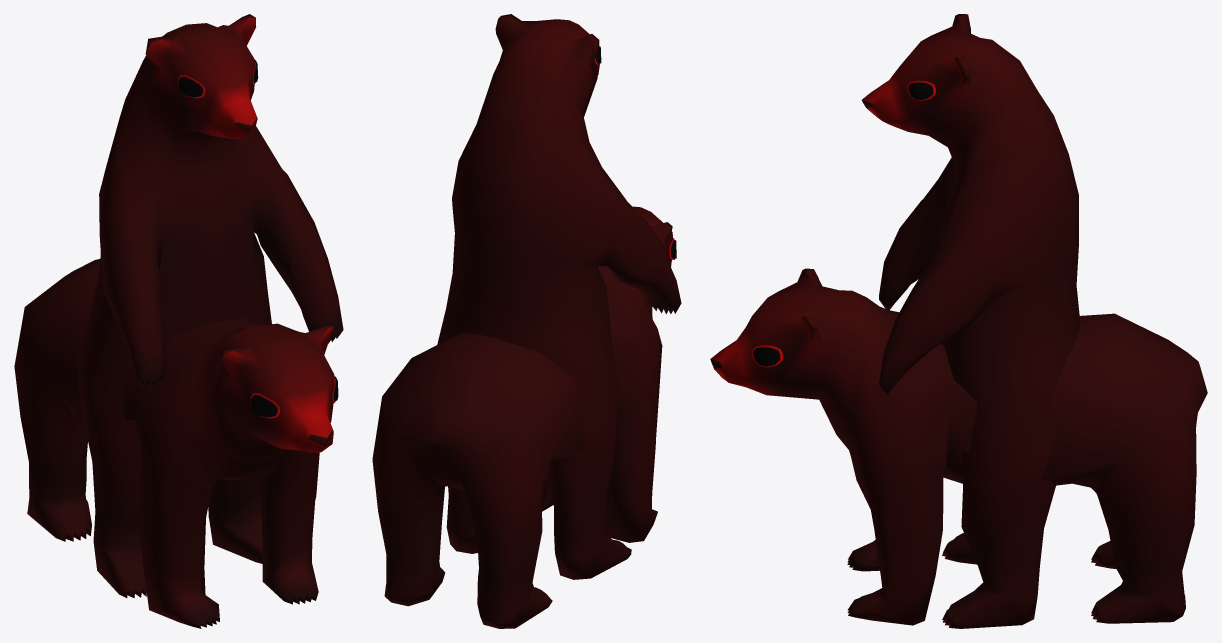
Rendered from Animals_BrownBear.fbx.
The picture shows the model from 3 angles, left to right: view 1: azimuth 30°, elevation 25°; view 2: azimuth 150°, elevation 25°; view 3: azimuth 270°, elevation 25°; orthographic projection. The views are drawn at different scales.
Parts seen in each view (by area): view 1: alt576, alt577; view 2: alt576, alt577; view 3: alt576, alt577.
Part boxes in pixels (x1,y1,x2,y2): alt576: (77, 14, 343, 598); alt577: (14, 259, 338, 628); alt576: (437, 14, 681, 579); alt577: (372, 206, 676, 628); alt576: (861, 14, 1080, 628); alt577: (710, 268, 1207, 625).
Bounding box in the file's own units: 96.93 × 247 × 202.
